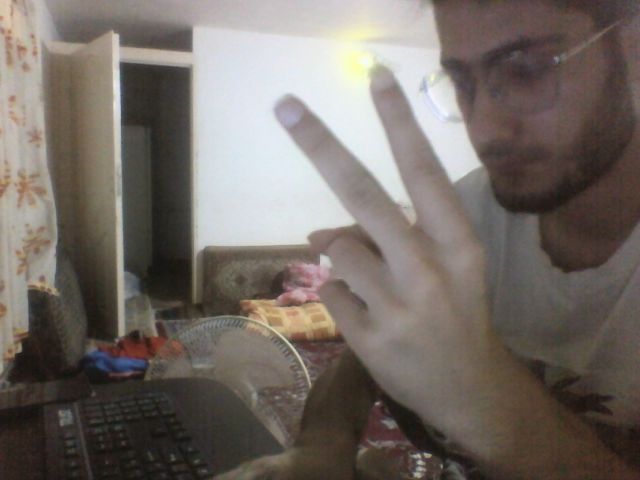Azadi: (230, 35, 541, 428)
sorat: (429, 1, 638, 211)
